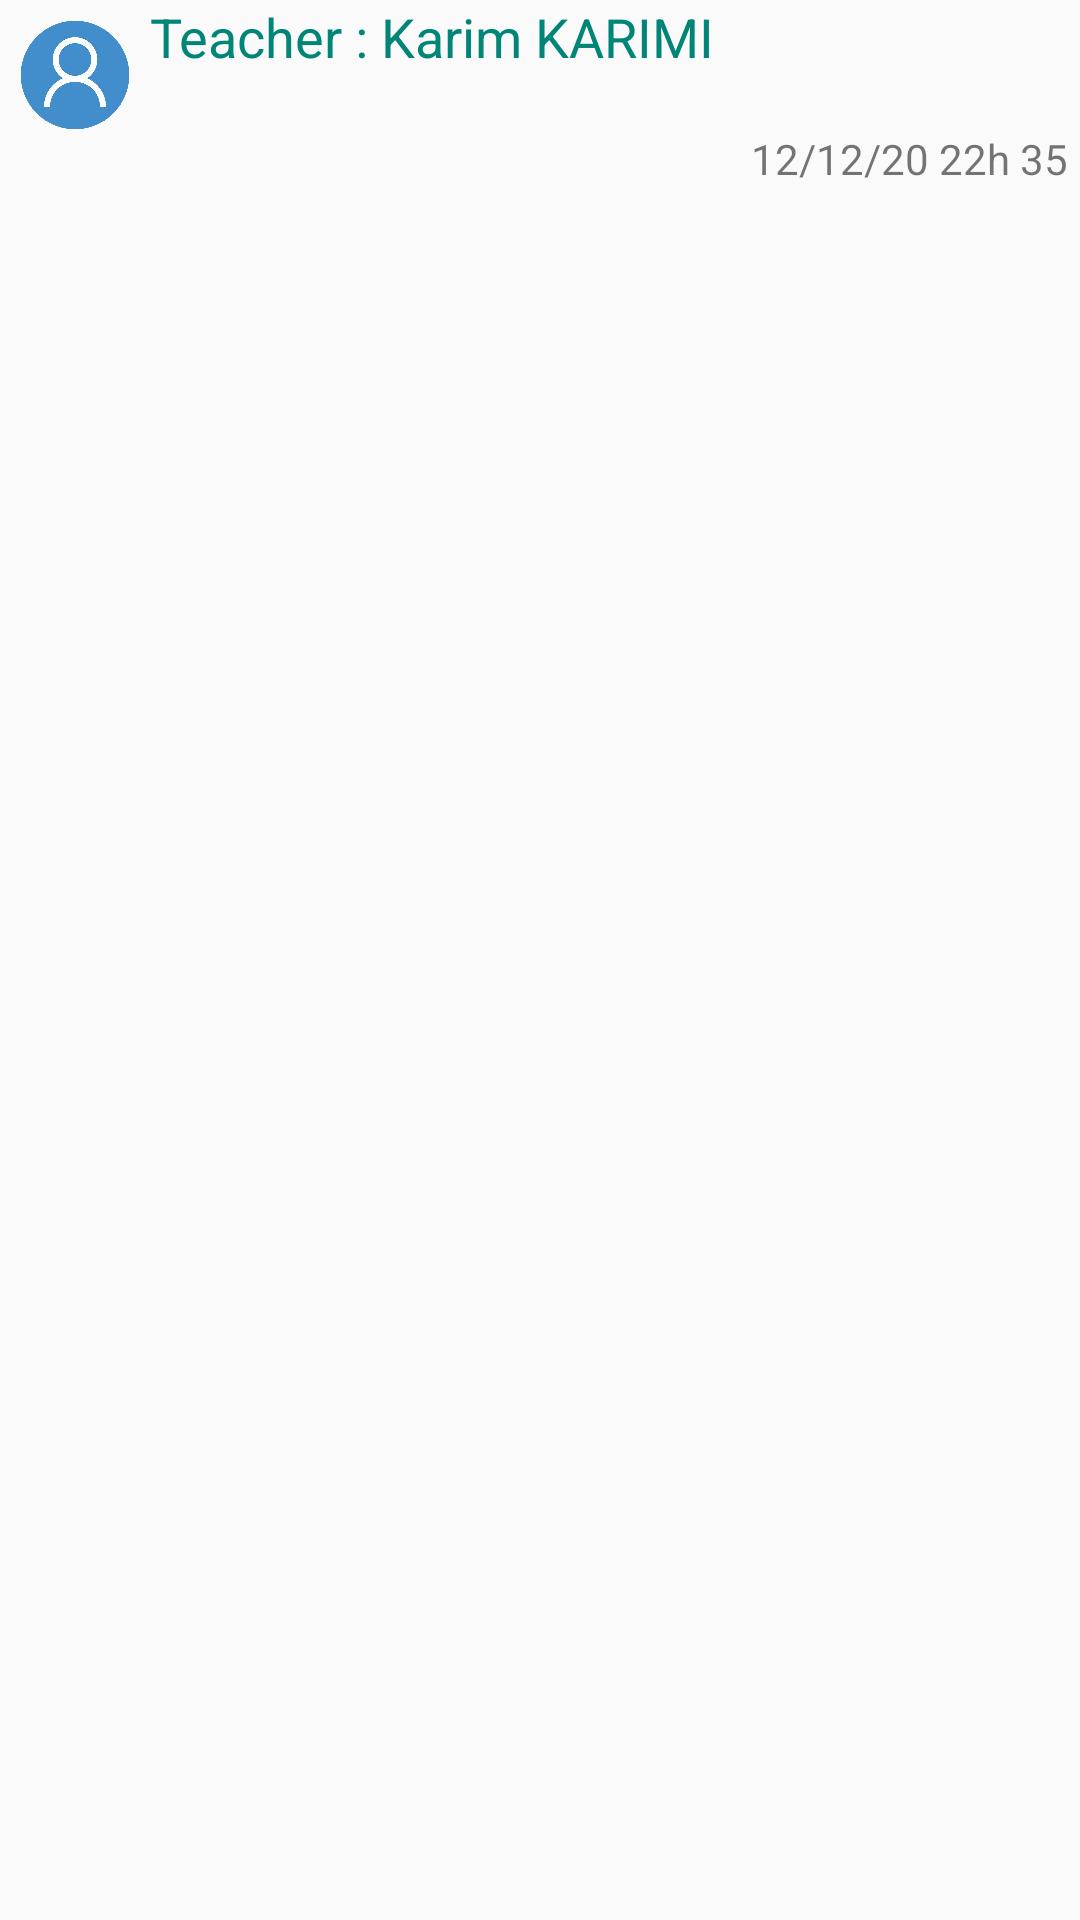

Icon click points for this 1080px×1920px phone screenshot, format (x=x, y=y):
userprofile: (x=75, y=75)
